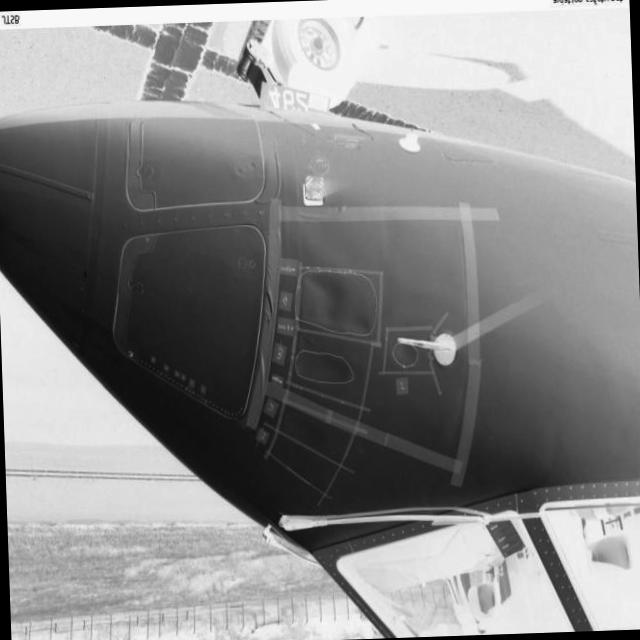dent: (302, 266, 373, 334), (305, 338, 356, 382), (390, 330, 418, 362)
